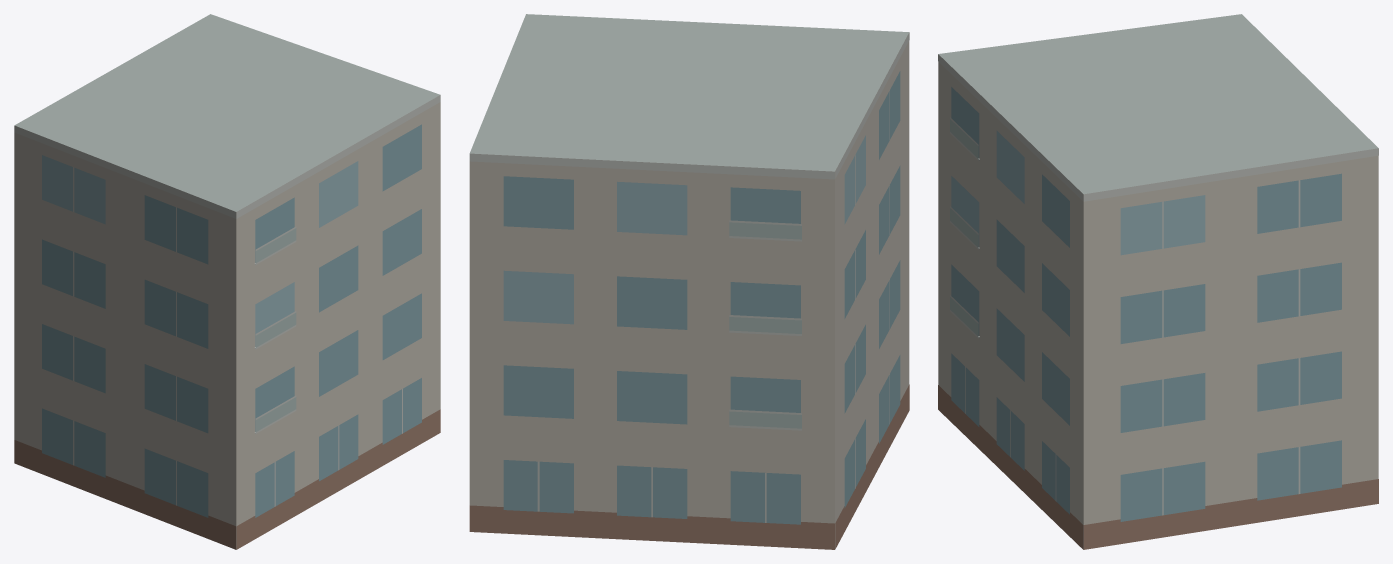
File: survey-upis-32783953.glb
3 renders of one model, left to right at view 1: azimuth 30°, elevation 25°; view 2: azimuth 150°, elevation 25°; view 3: azimuth 270°, elevation 25°, orthographic. The views are drawn at different scales.
Visible parts, largest first — view 1: survey-upis-32783953.tmp; view 2: survey-upis-32783953.tmp; view 3: survey-upis-32783953.tmp.
Part boxes in pixels (bbox=[...]): survey-upis-32783953.tmp: bbox=[14, 14, 440, 549]; survey-upis-32783953.tmp: bbox=[469, 14, 909, 549]; survey-upis-32783953.tmp: bbox=[938, 14, 1378, 549].
Size of the model in its own units: 12.74 by 11.7 by 13.15.
